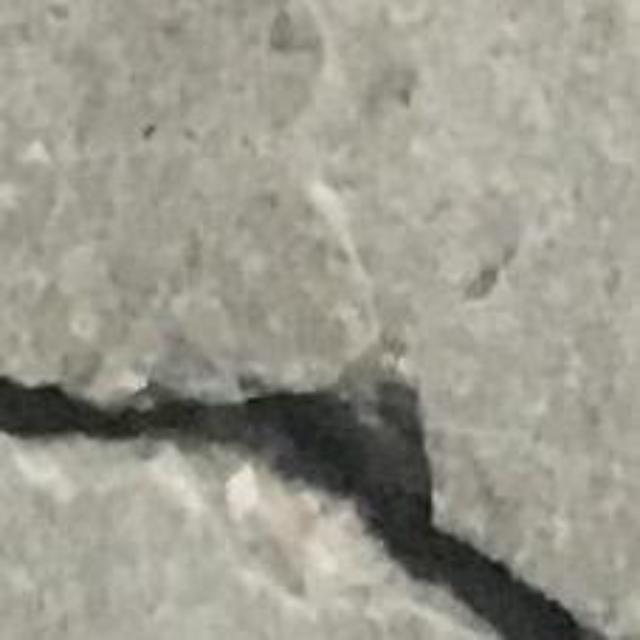crack: (0, 378, 600, 639)
